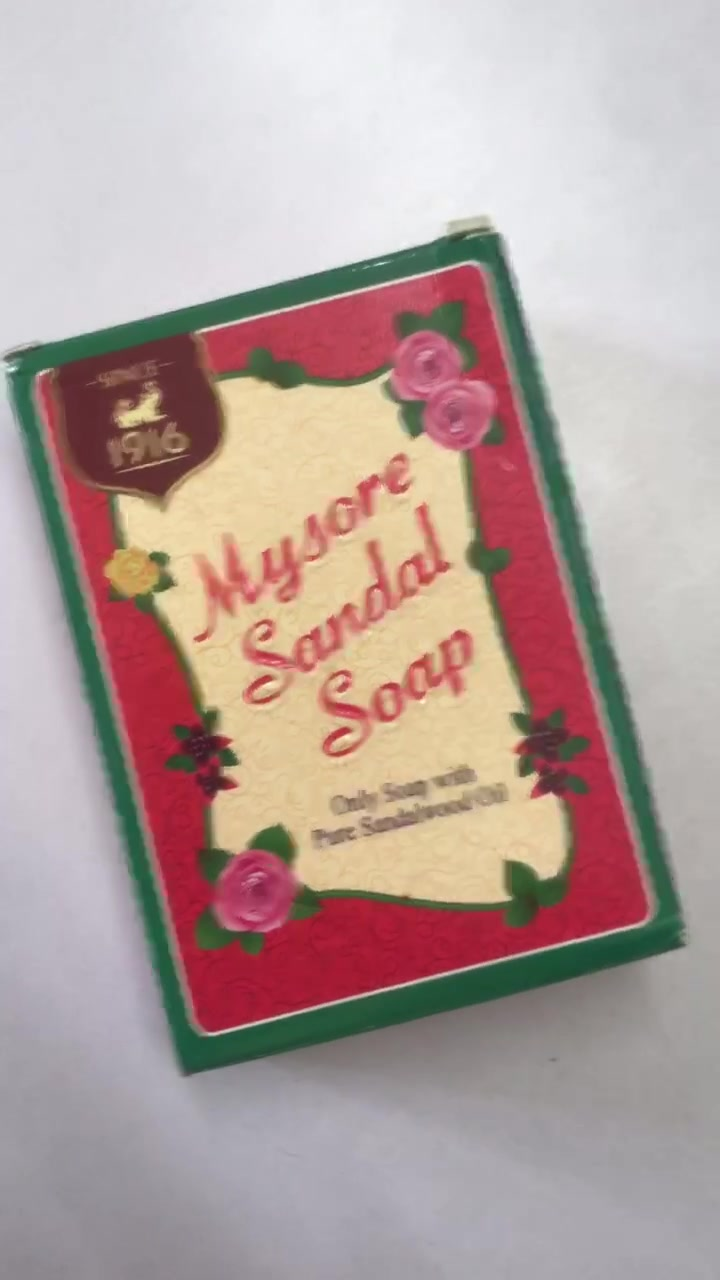mysore sandal soap: (5, 230, 677, 1077)
